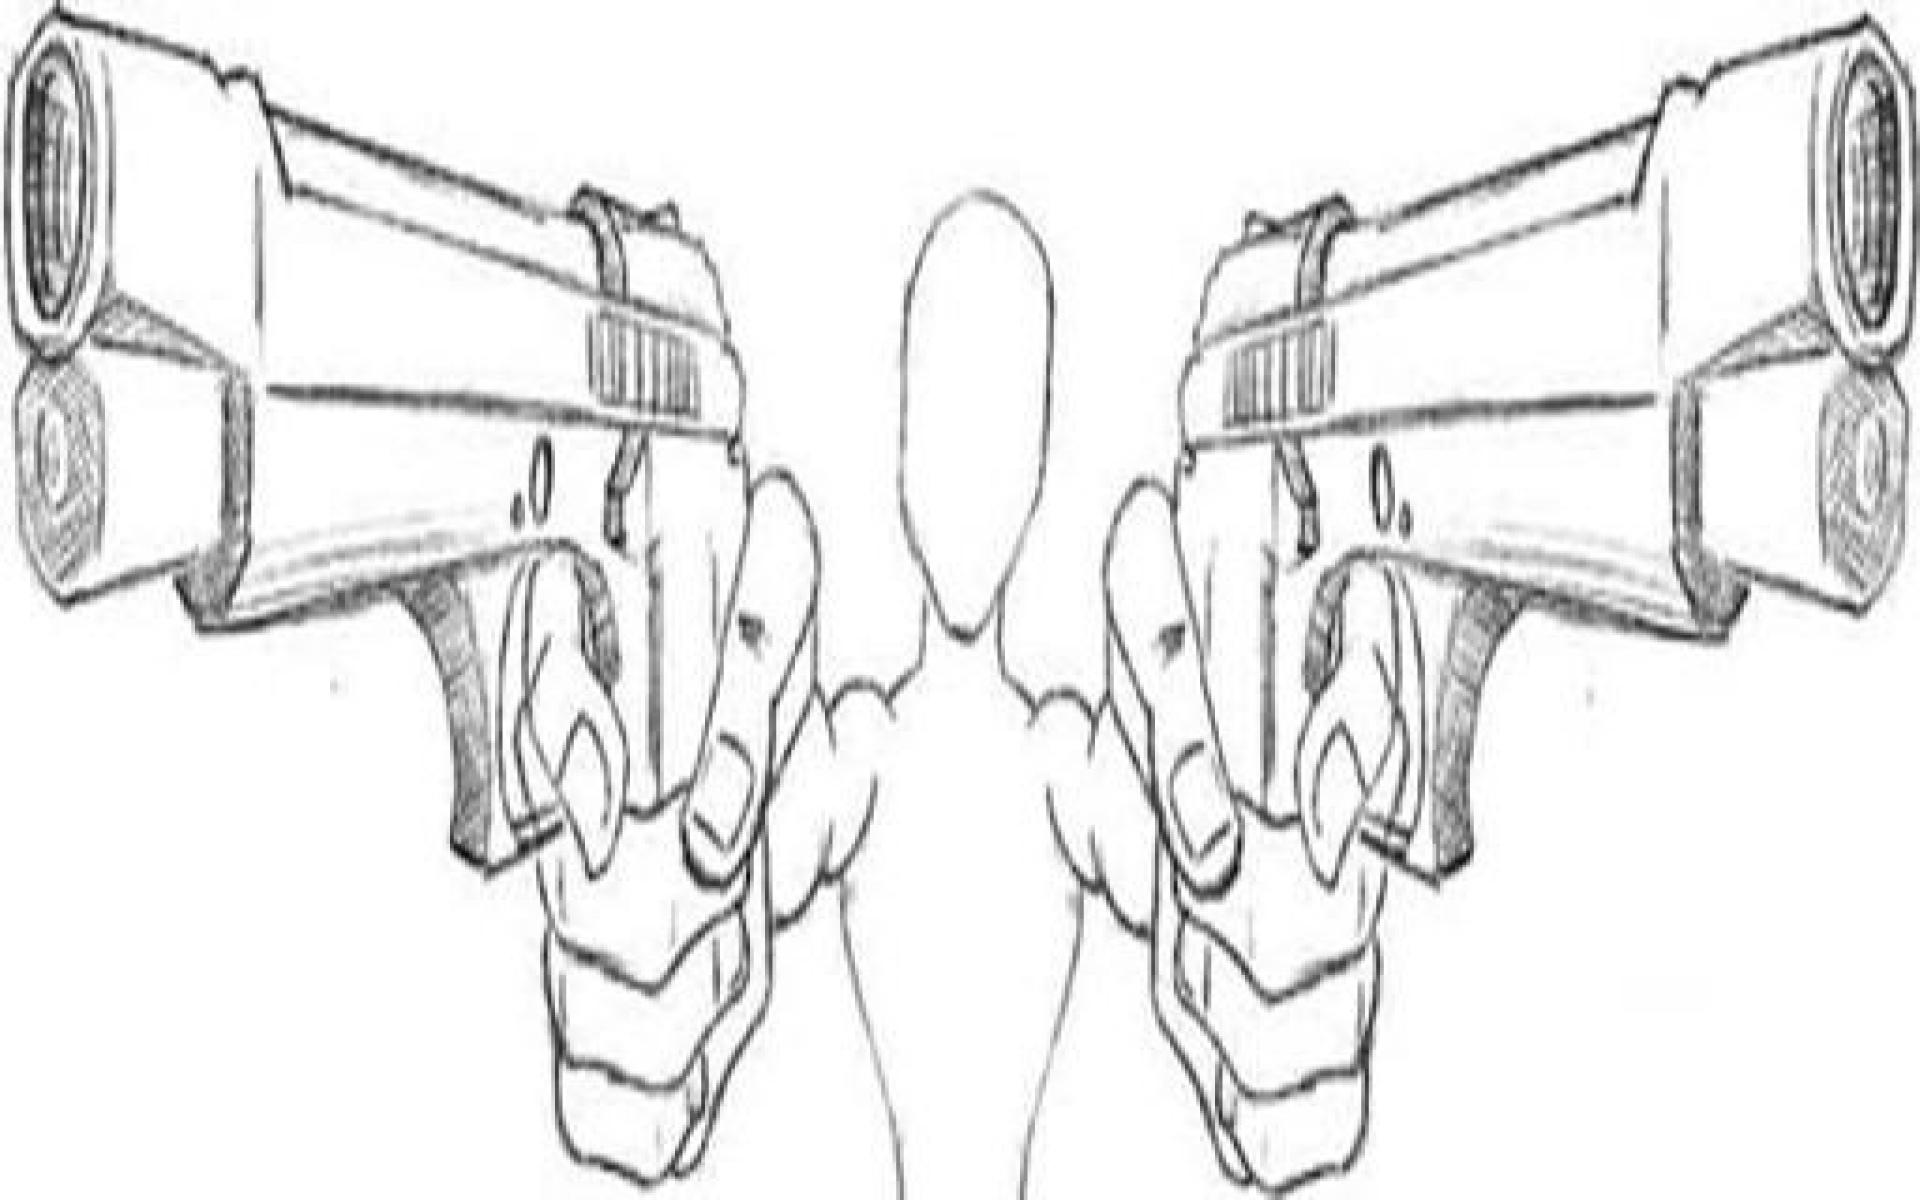gun: (0, 11, 771, 1197), (1145, 54, 1830, 1066)
